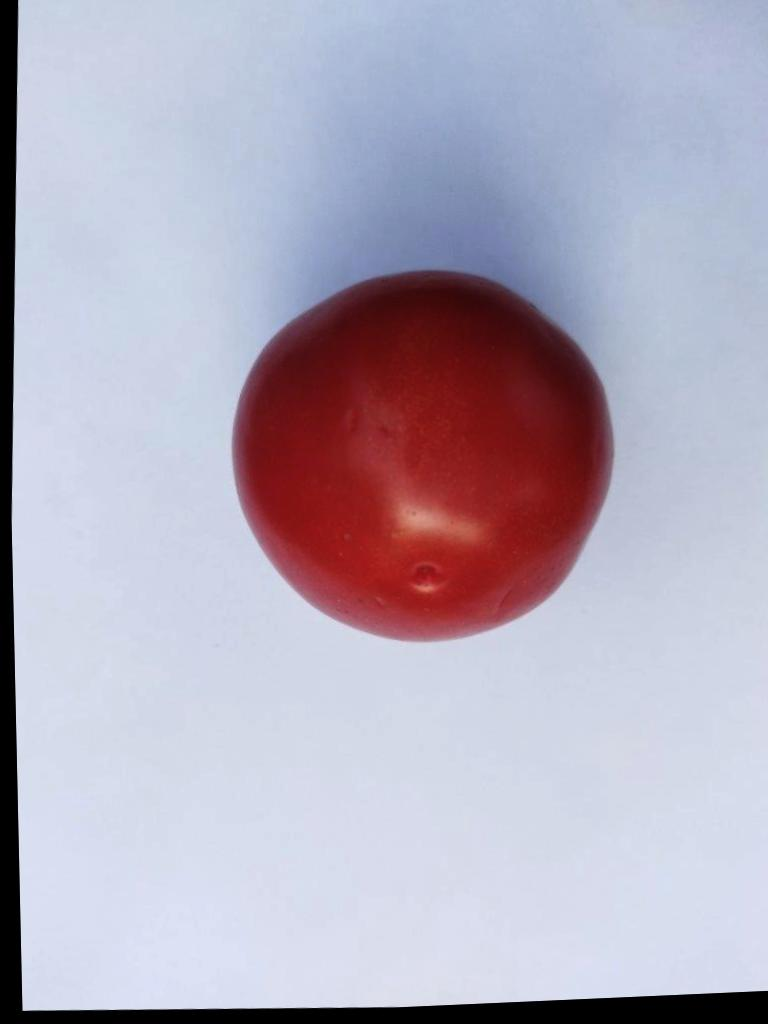tomato: (233, 273, 612, 641)
